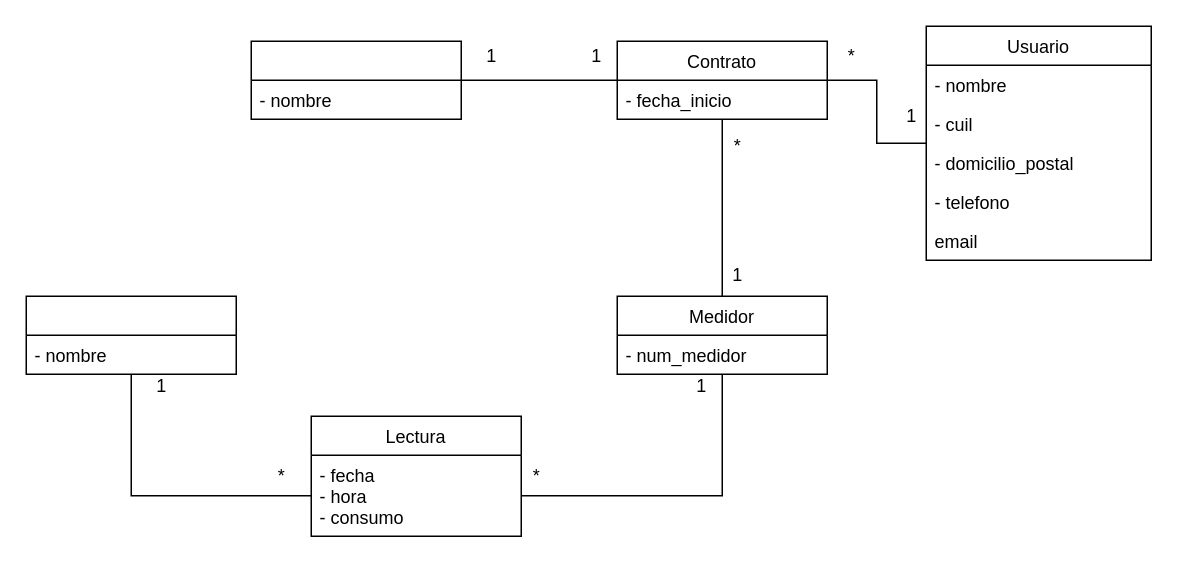
The diagram is 1178 pixels wide and 567 high, and some of its shapes have lost their labels. Here are the shapes that lost their labels. From the top down, the box of each, then its label:
(250, 40, 461, 119): Tipo_tarifa
(25, 295, 236, 374): Operario
